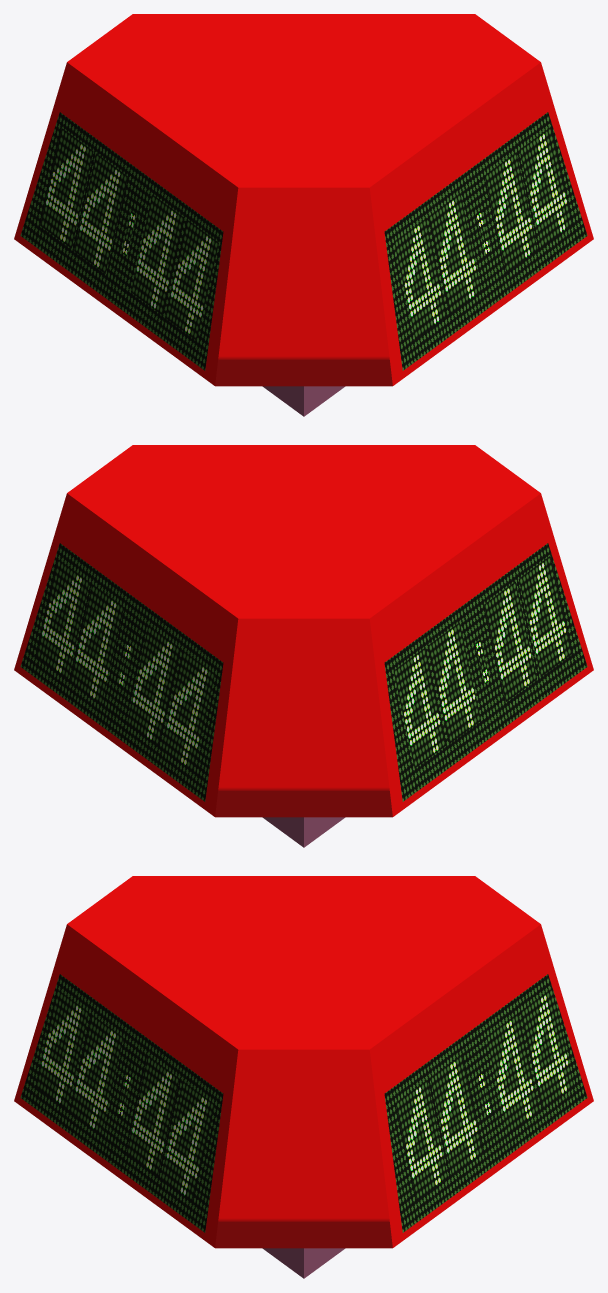
File: Info_Clock3.FBX
3 renders of one model, top to bottom at view 1: azimuth 30°, elevation 25°; view 2: azimuth 150°, elevation 25°; view 3: azimuth 270°, elevation 25°, orthographic.
Parts seen in each view (by area): view 1: Info_Clock3, Info_Clock3_numbers; view 2: Info_Clock3, Info_Clock3_numbers; view 3: Info_Clock3, Info_Clock3_numbers.
Part boxes in pixels (box(x1,y1,x2,y2)): Info_Clock3: box(14, 14, 593, 416); Info_Clock3_numbers: box(40, 127, 572, 340); Info_Clock3: box(14, 445, 593, 847); Info_Clock3_numbers: box(36, 556, 571, 771); Info_Clock3: box(14, 876, 593, 1278); Info_Clock3_numbers: box(36, 988, 574, 1201).
Size of the model in its own units: 8.82 by 5.15 by 10.14.
